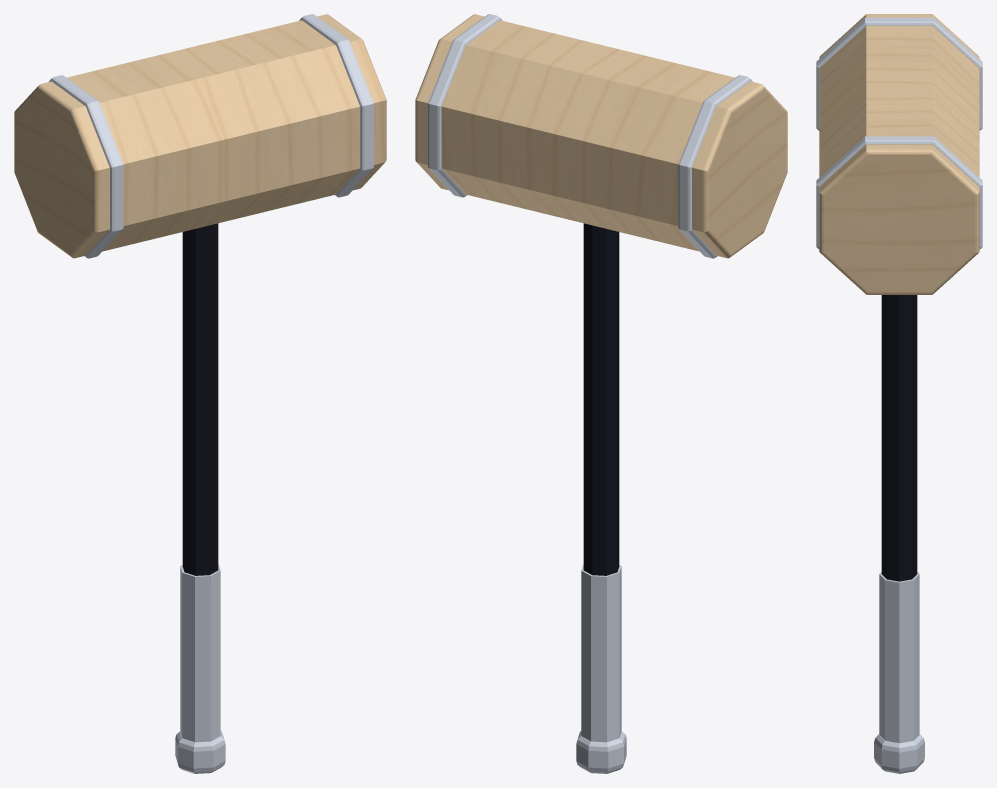
File: hammer_aodaru.fbx
The picture shows the model from 3 angles, left to right: view 1: azimuth 30°, elevation 25°; view 2: azimuth 150°, elevation 25°; view 3: azimuth 270°, elevation 25°; orthographic projection. The views are drawn at different scales.
Visible parts, largest first — view 1: aodaru_hammer; view 2: aodaru_hammer; view 3: aodaru_hammer.
Part boxes in pixels (<box>): aodaru_hammer: <box>14,14,386,773</box>; aodaru_hammer: <box>415,14,787,773</box>; aodaru_hammer: <box>816,14,982,773</box>.
Bounding box in the file's own units: 1.1 × 2.54 × 0.558.
4 materials, 1 textured.
